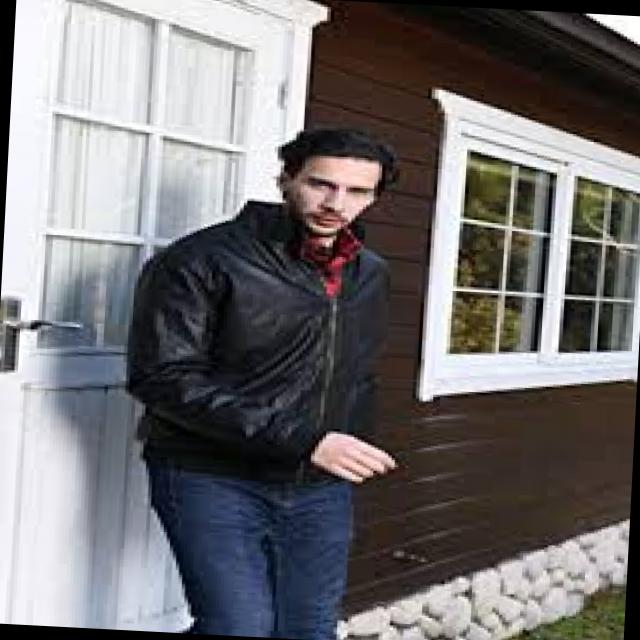Jacket: (134, 213, 404, 484)
